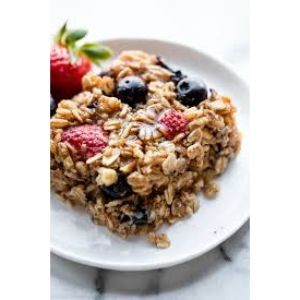oat_brain food: (73, 62, 222, 178)
